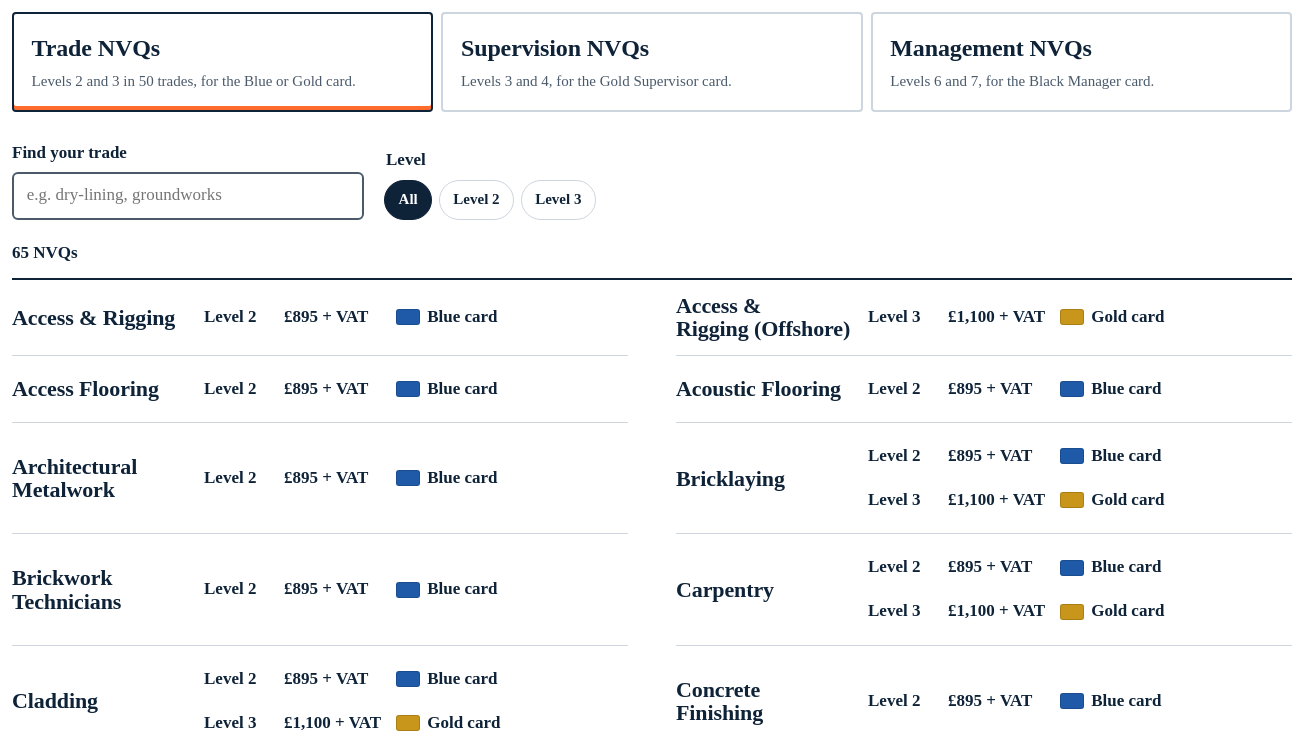
it: <NvqFinder /> › filters by level
Click the radio button labelled "Level 3".
click(558, 200)  # box x1=521 y1=180 x2=596 y2=220
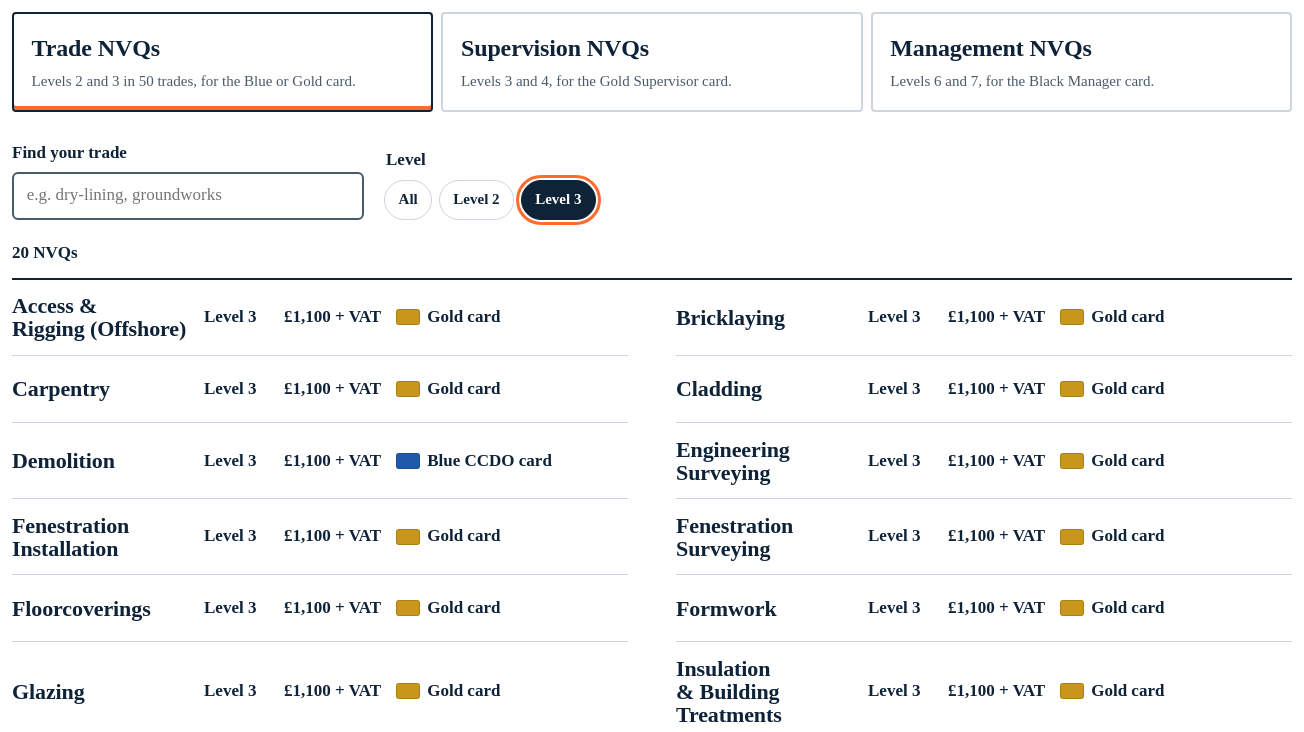
Result: the message reads "20 NVQs" at x1=12 y1=243 x2=78 y2=262
